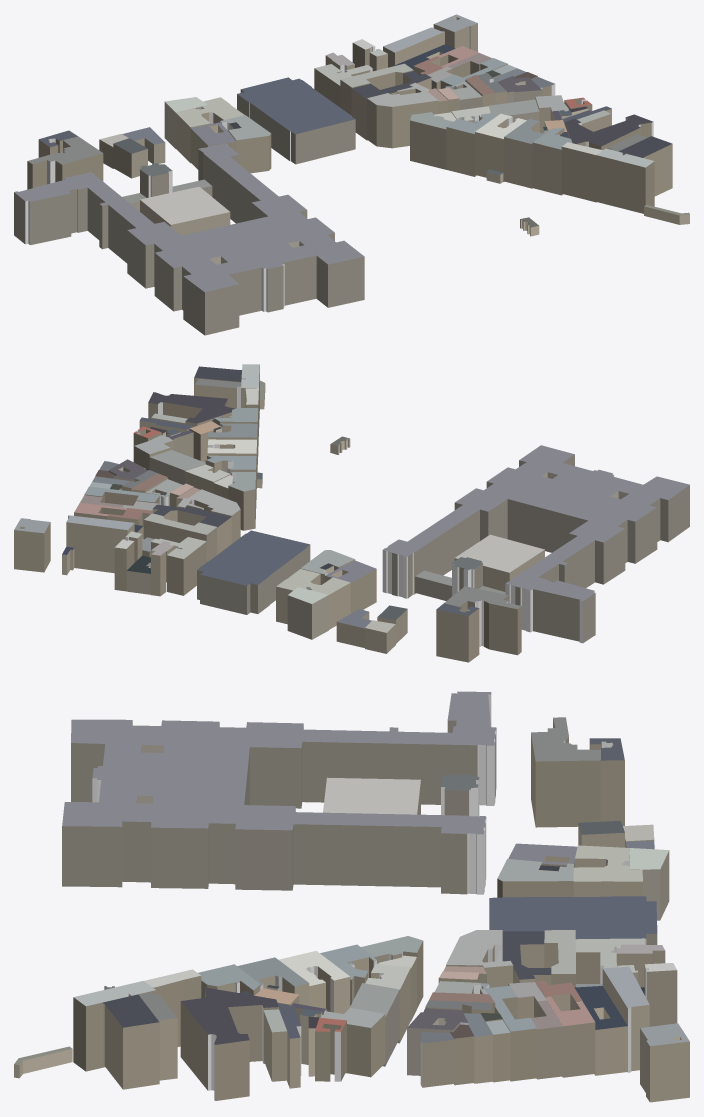
3 views of the same model, one above another, from view 1: azimuth 30°, elevation 25°; view 2: azimuth 150°, elevation 25°; view 3: azimuth 270°, elevation 25° (orthographic). The views are drawn at different scales.
Parts seen in each view (by area): view 1: tuile; view 2: tuile; view 3: tuile.
Part boxes in pixels (x1=…): tuile: x1=14, y1=14, x2=689, y2=335; tuile: x1=14, y1=364, x2=689, y2=662; tuile: x1=14, y1=691, x2=689, y2=1102.
Size of the model in its own units: 308 by 34.29 by 239.
